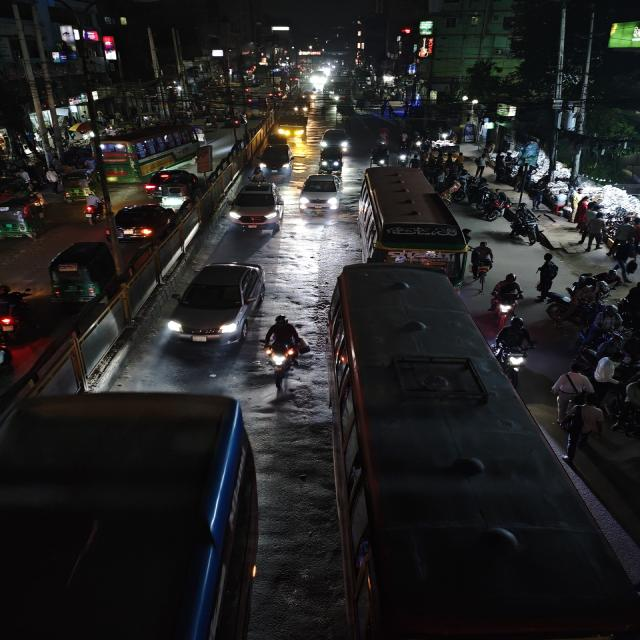bus: (334, 262, 636, 640), (2, 388, 266, 640), (354, 165, 470, 288), (95, 122, 210, 181)
car: (166, 258, 270, 351), (225, 180, 284, 236), (113, 200, 180, 242), (296, 172, 344, 216), (142, 167, 201, 193), (257, 142, 294, 176), (318, 128, 353, 152)
cng: (44, 239, 120, 305), (0, 203, 47, 240), (317, 146, 346, 173)
motorcycle: (261, 312, 306, 392), (495, 317, 533, 375), (0, 285, 33, 339), (490, 273, 525, 321), (508, 202, 544, 248), (469, 186, 514, 222), (468, 239, 496, 285), (80, 192, 106, 224), (249, 165, 267, 183)
pedestrian: (550, 362, 594, 428), (490, 273, 525, 316), (533, 252, 559, 300), (616, 236, 639, 277)
pickup_van: (277, 114, 310, 142)
rickshaw: (52, 169, 98, 203)
